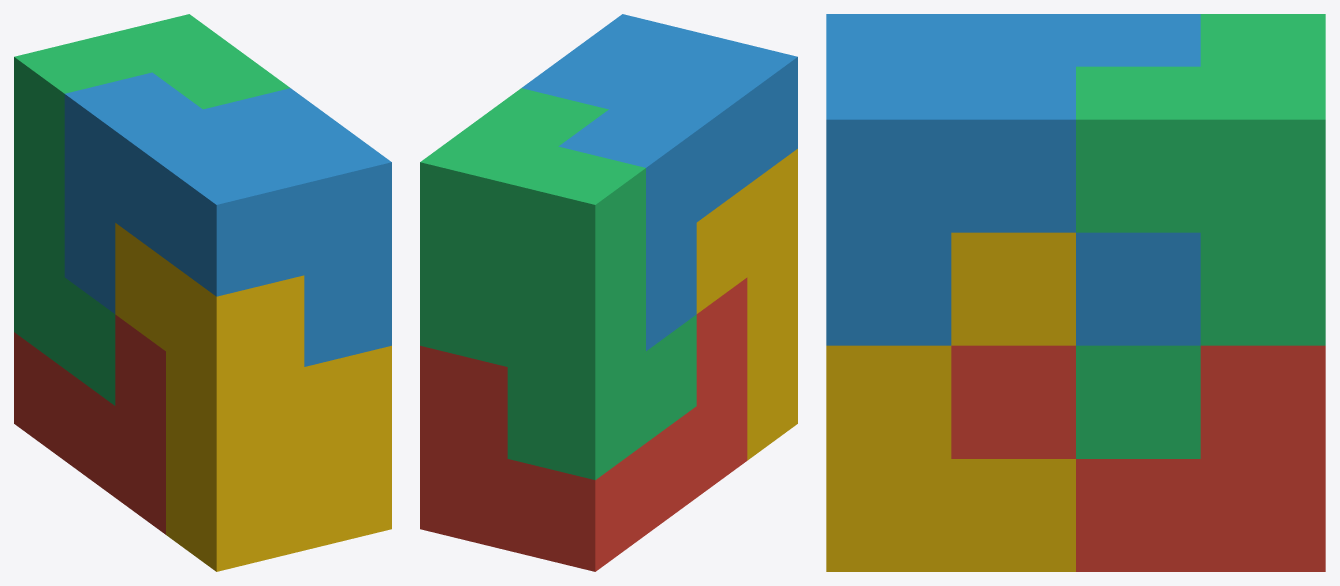
Rendered from tiling.obj.
The picture shows the model from 3 angles, left to right: view 1: azimuth 30°, elevation 25°; view 2: azimuth 150°, elevation 25°; view 3: azimuth 270°, elevation 25°; orthographic projection. The views are drawn at different scales.
Visible parts, largest first — view 1: copy_2, copy_4, copy_3, copy_1; view 2: copy_3, copy_1, copy_2, copy_4; view 3: copy_2, copy_3, copy_1, copy_4.
Part boxes in pixels (<box>): copy_2: <box>64,72,391,366</box>; copy_4: <box>115,223,391,571</box>; copy_3: <box>14,14,289,405</box>; copy_1: <box>14,314,165,534</box>; copy_3: <box>420,88,696,480</box>; copy_1: <box>420,277,747,571</box>; copy_2: <box>522,14,797,350</box>; copy_4: <box>696,149,797,460</box>; copy_2: <box>826,14,1200,345</box>; copy_3: <box>1076,14,1325,458</box>; copy_1: <box>951,345,1325,571</box>; copy_4: <box>826,232,1075,571</box>.
Bounding box in the file's own units: 2 × 4 × 4.
